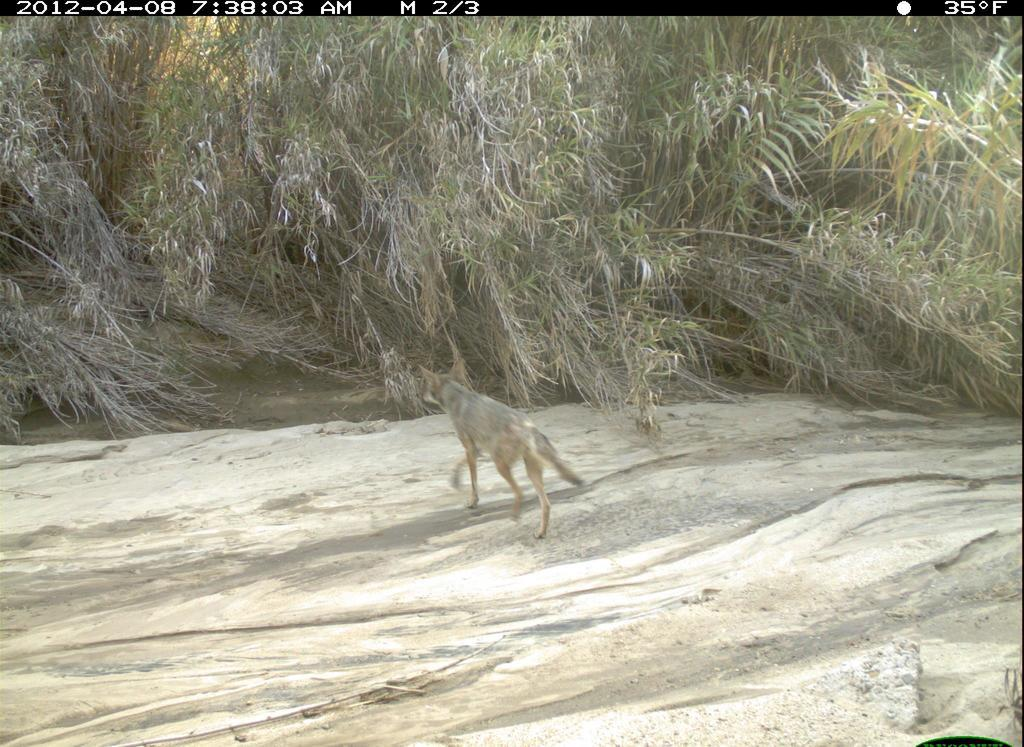coyote: (410, 345, 596, 547)
